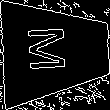M_E: (32, 28, 79, 76)
